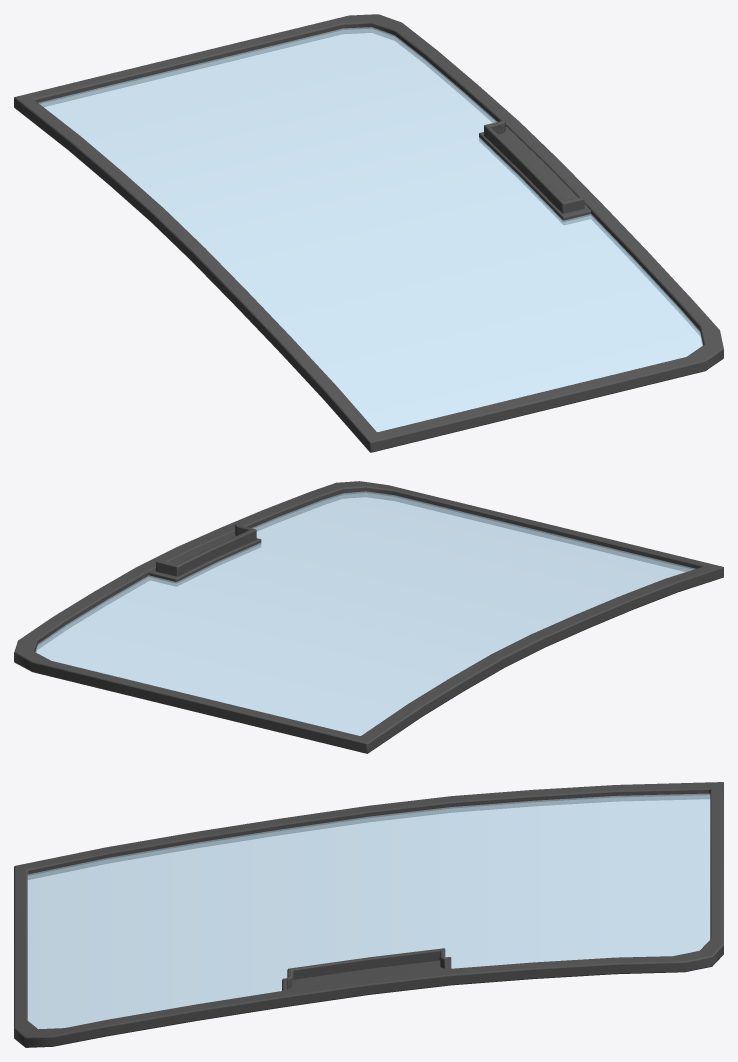
3 views of the same model, one above another, from view 1: azimuth 30°, elevation 25°; view 2: azimuth 150°, elevation 25°; view 3: azimuth 270°, elevation 25° (orthographic).
Parts seen in each view (by area): view 1: Part3 (×2); view 2: Part3 (×2); view 3: Part3 (×2).
Part boxes in pixels (box(x1,y1,x2,y2)): Part3 (×2): box(14, 14, 723, 452); Part3 (×2): box(14, 481, 723, 753); Part3 (×2): box(14, 782, 723, 1047).
Size of the model in its own units: 0.4901 by 0.1208 by 0.8201.
